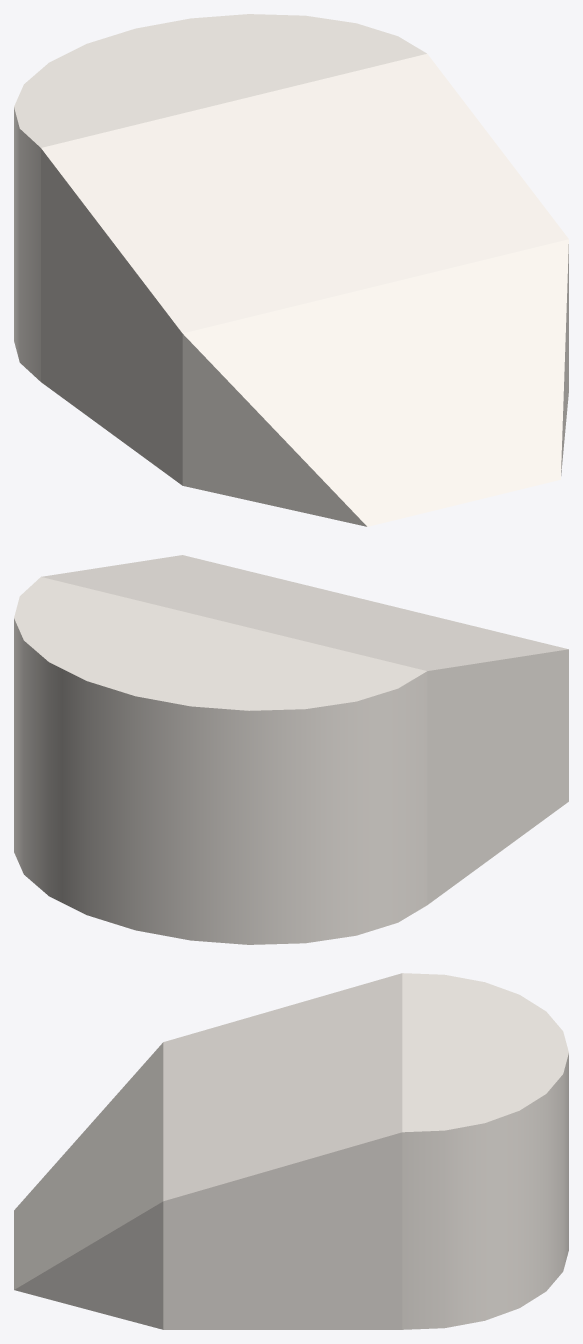
File: mouse-compact.glb
3 renders of one model, top to bottom at view 1: azimuth 30°, elevation 25°; view 2: azimuth 150°, elevation 25°; view 3: azimuth 270°, elevation 25°, orthographic. The views are drawn at different scales.
Parts seen in each view (by area): view 1: vendor-white; view 2: vendor-white; view 3: vendor-white.
Boxes of the visible parts, bbox=[...] form: vendor-white: bbox=[14, 14, 568, 526]; vendor-white: bbox=[14, 555, 568, 944]; vendor-white: bbox=[14, 973, 568, 1329].
Bounding box in the file's own units: 0.1615 × 0.0935 × 0.238.
Materials: 1 (1 with a texture image).
